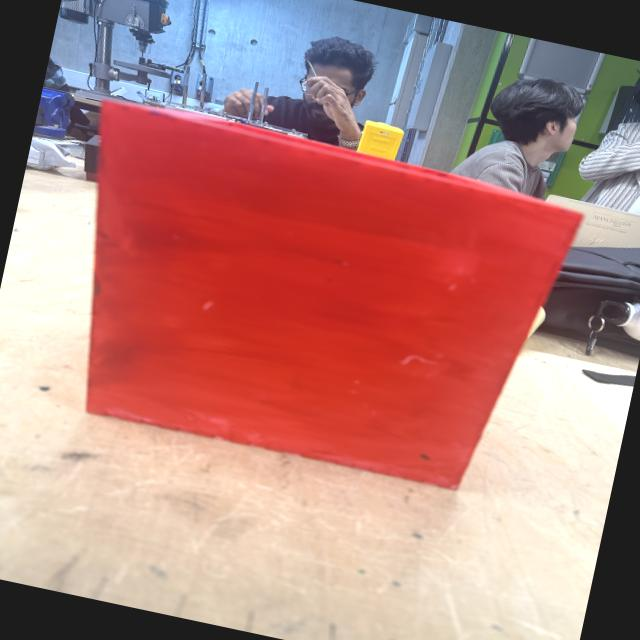red_bin: (38, 92, 590, 506)
